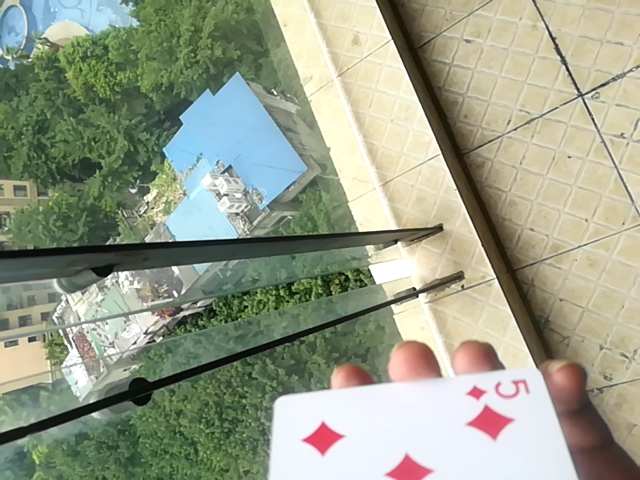fk 5: (245, 363, 623, 480)
